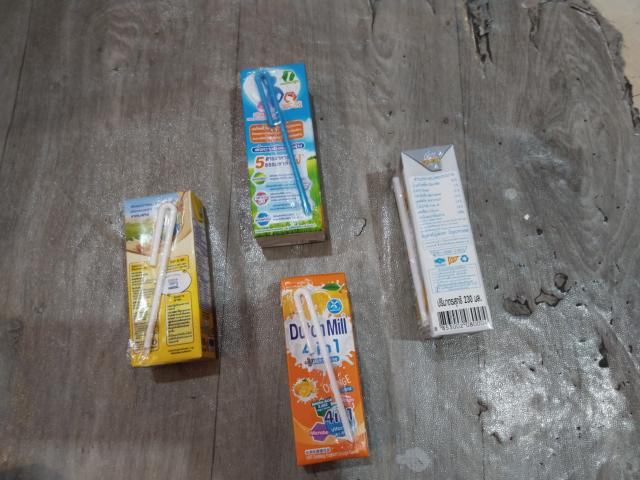drink_box: (236, 57, 337, 256), (394, 145, 490, 339), (277, 273, 366, 470), (121, 194, 221, 368)
